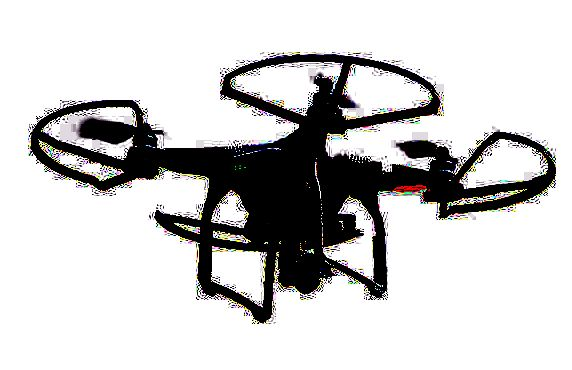Drone: (23, 47, 561, 328)
